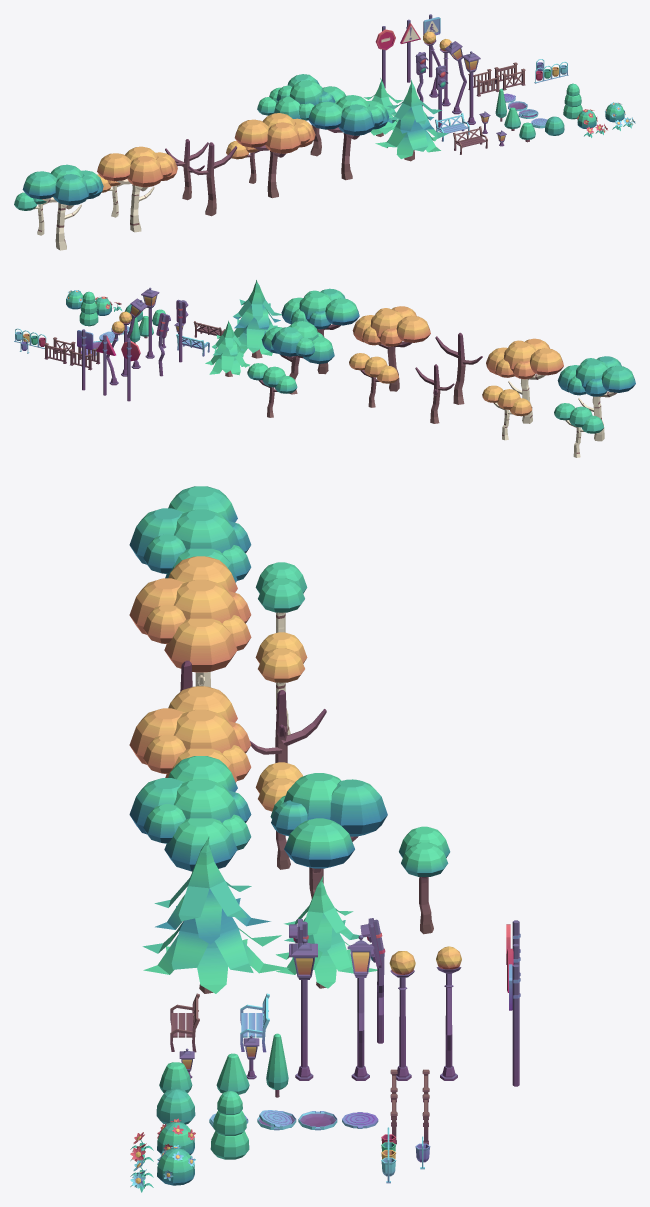
Rendered from lonly-park-low-poly-assets.glb.
3 renders of one model, top to bottom at view 1: azimuth 30°, elevation 25°; view 2: azimuth 150°, elevation 25°; view 3: azimuth 270°, elevation 25°, orthographic. The views are drawn at different scales.
Parts seen in each view (by area): view 1: _gltfNode_27, _gltfNode_33, _gltfNode_3, _gltfNode_6, _gltfNode_0, _gltfNode_21, _gltfNode_9, _gltfNode_24, _gltfNode_18, _gltfNode_36, _gltfNode_84, _gltfNode_96 (+9 smaller); view 2: _gltfNode_33, _gltfNode_27, _gltfNode_6, _gltfNode_3, _gltfNode_21, _gltfNode_0, _gltfNode_18, _gltfNode_30, _gltfNode_15, _gltfNode_36, _gltfNode_12, _gltfNode_9 (+17 smaller); view 3: _gltfNode_27, _gltfNode_3, _gltfNode_0, _gltfNode_21, _gltfNode_33, _gltfNode_6, _gltfNode_18, _gltfNode_12, _gltfNode_36, _gltfNode_30, _gltfNode_84, _gltfNode_15 (+12 smaller).
Boxes of the visible parts, bbox=[...] form: _gltfNode_27: bbox=[97, 146, 177, 232]; _gltfNode_33: bbox=[22, 164, 103, 250]; _gltfNode_3: bbox=[308, 95, 389, 180]; _gltfNode_6: bbox=[234, 113, 315, 198]; _gltfNode_0: bbox=[375, 79, 448, 161]; _gltfNode_21: bbox=[274, 74, 345, 156]; _gltfNode_9: bbox=[188, 142, 237, 216]; _gltfNode_24: bbox=[165, 139, 208, 200]; _gltfNode_18: bbox=[363, 78, 403, 136]; _gltfNode_36: bbox=[14, 192, 48, 235]; _gltfNode_84: bbox=[563, 83, 582, 119]; _gltfNode_96: bbox=[461, 51, 480, 124]; _gltfNode_33: bbox=[557, 356, 635, 441]; _gltfNode_27: bbox=[486, 338, 563, 423]; _gltfNode_6: bbox=[352, 306, 430, 391]; _gltfNode_3: bbox=[281, 288, 359, 374]; _gltfNode_21: bbox=[261, 321, 334, 394]; _gltfNode_0: bbox=[233, 280, 281, 358]; _gltfNode_18: bbox=[205, 320, 250, 376]; _gltfNode_30: bbox=[482, 385, 532, 440]; _gltfNode_15: bbox=[349, 353, 398, 407]; _gltfNode_36: bbox=[554, 403, 603, 457]; _gltfNode_12: bbox=[247, 363, 297, 417]; _gltfNode_9: bbox=[435, 332, 482, 404]; _gltfNode_27: bbox=[129, 556, 251, 687]; _gltfNode_3: bbox=[129, 756, 251, 871]; _gltfNode_0: bbox=[142, 836, 289, 993]; _gltfNode_21: bbox=[270, 773, 387, 898]; _gltfNode_33: bbox=[129, 486, 251, 582]; _gltfNode_6: bbox=[129, 686, 251, 782]; _gltfNode_18: bbox=[276, 876, 377, 988]; _gltfNode_12: bbox=[399, 826, 450, 934]; _gltfNode_36: bbox=[255, 562, 307, 632]; _gltfNode_30: bbox=[255, 632, 307, 734]; _gltfNode_84: bbox=[210, 1091, 249, 1159]; _gltfNode_15: bbox=[255, 762, 302, 869].
Bounding box in the file's own units: 120 × 16.31 × 35.25.
Materials: 2 (2 with a texture image).
